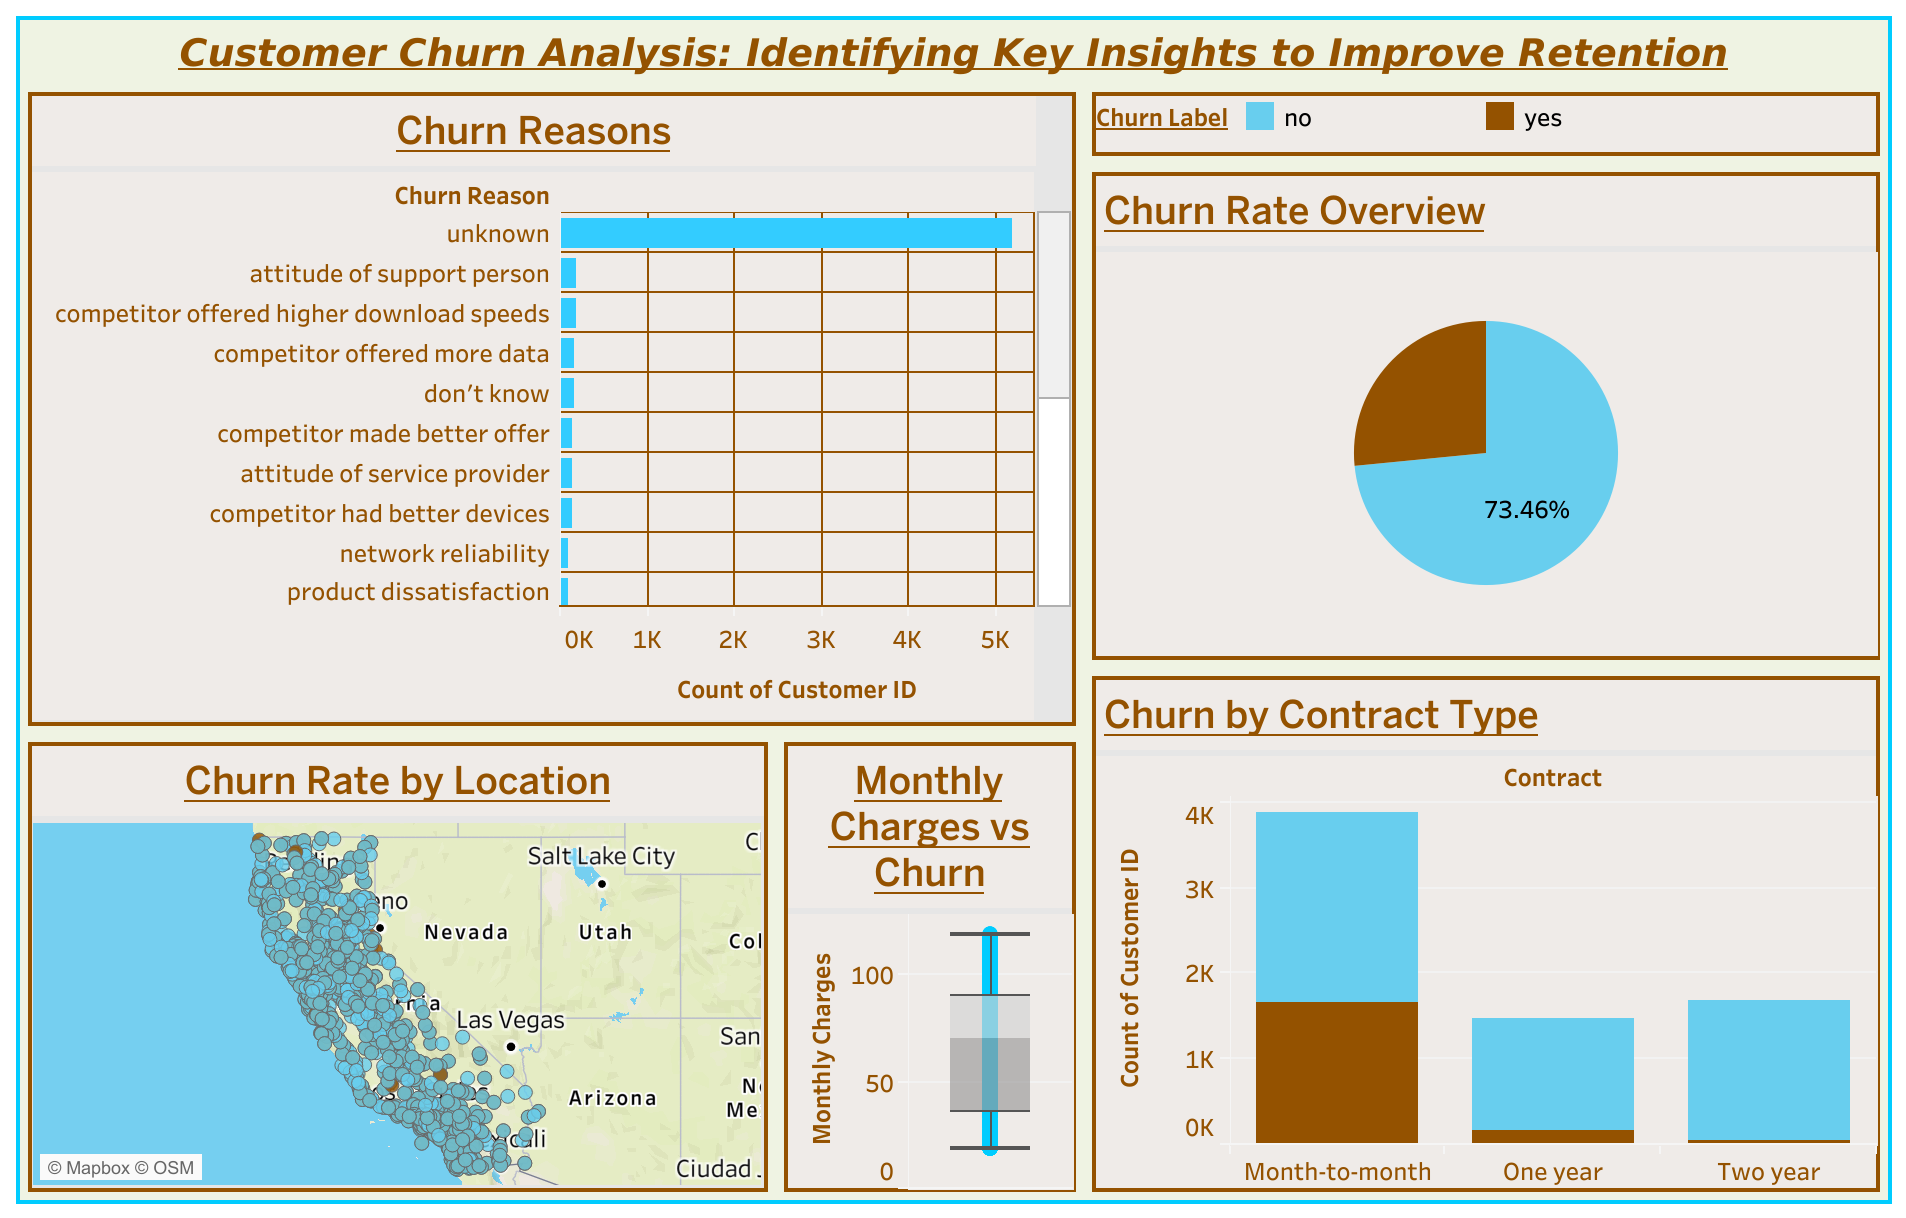

This screenshot's page, from the dashboard's own definition file:
{"tool":"tableau","page":{"name":"Dashboard 1","canvas":[1000,1000],"units":"permille","ordinal":0},"visuals":[{"type":"title","box":[8,15.4,984,49.4]},{"type":"worksheet","title":"Sheet 7","mark":"Automatic","rows":["Churn_Reason"],"cols":["CustomerID"],"box":[8,64.8,662.4,535.9]},{"type":"legend","title":"Sheet 3","param":"[federated.1wa1ssk1qncqsi15huqry1ab6ev9].[none:Churn_Label:nk]","box":[670.4,64.8,321.6,61.7]},{"type":"worksheet","title":"Sheet 2","mark":"Pie","box":[670.4,126.6,321.6,388.9]},{"type":"worksheet","title":"Sheet 3","mark":"Automatic","rows":["CustomerID"],"cols":["Contract"],"box":[670.4,515.5,321.6,469.1]},{"type":"worksheet","title":"Sheet 6","mark":"Multipolygon","box":[8,600.7,471.2,383.8]},{"type":"worksheet","title":"Sheet 4","mark":"Circle","rows":["Monthly_Charges"],"box":[479.2,600.7,191.2,383.8]}]}

Visuals, with their boxes on the dashboard's canvas, which has no fixed pixel size, in thousandths of its width and height (x1, y1, x2, y2). These are canvas units, not pixel positions in the 1906x1218 screenshot, which may show the page scaled, cropped or inside an application window:
title: rect(8, 15, 992, 65)
"Sheet 7" worksheet: rect(8, 65, 670, 601)
"Sheet 3" legend: rect(670, 65, 992, 126)
"Sheet 2" worksheet (Pie marks): rect(670, 127, 992, 516)
"Sheet 3" worksheet: rect(670, 516, 992, 985)
"Sheet 6" worksheet (Multipolygon marks): rect(8, 601, 479, 984)
"Sheet 4" worksheet (Circle marks): rect(479, 601, 670, 984)
